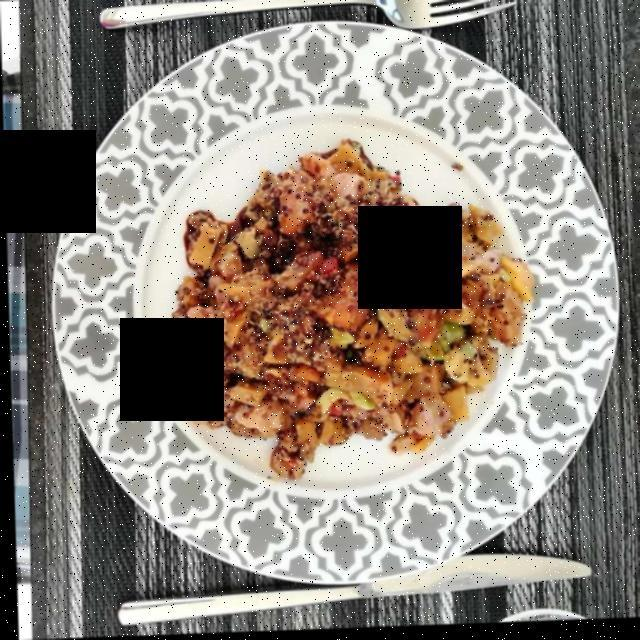quinoa: (172, 186, 512, 417)
